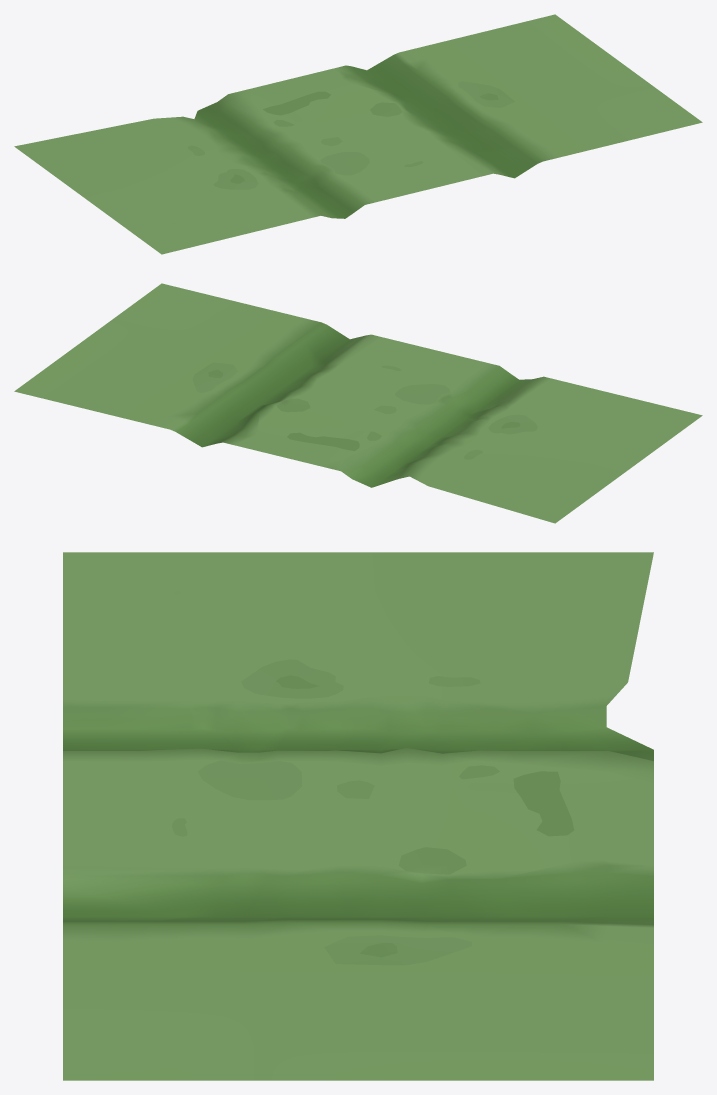
Rendered from dixing.fbx.
The picture shows the model from 3 angles, top to bottom: view 1: azimuth 30°, elevation 25°; view 2: azimuth 150°, elevation 25°; view 3: azimuth 270°, elevation 25°; orthographic projection. The views are drawn at different scales.
Parts seen in each view (by area): view 1: pPlane5; view 2: pPlane5; view 3: pPlane5.
Boxes of the visible parts, <box> form: pPlane5: <box>14,14,702,254</box>; pPlane5: <box>14,283,702,523</box>; pPlane5: <box>63,552,653,1080</box>.
Size of the model in its own units: 66.28 by 1.17 by 31.34.
